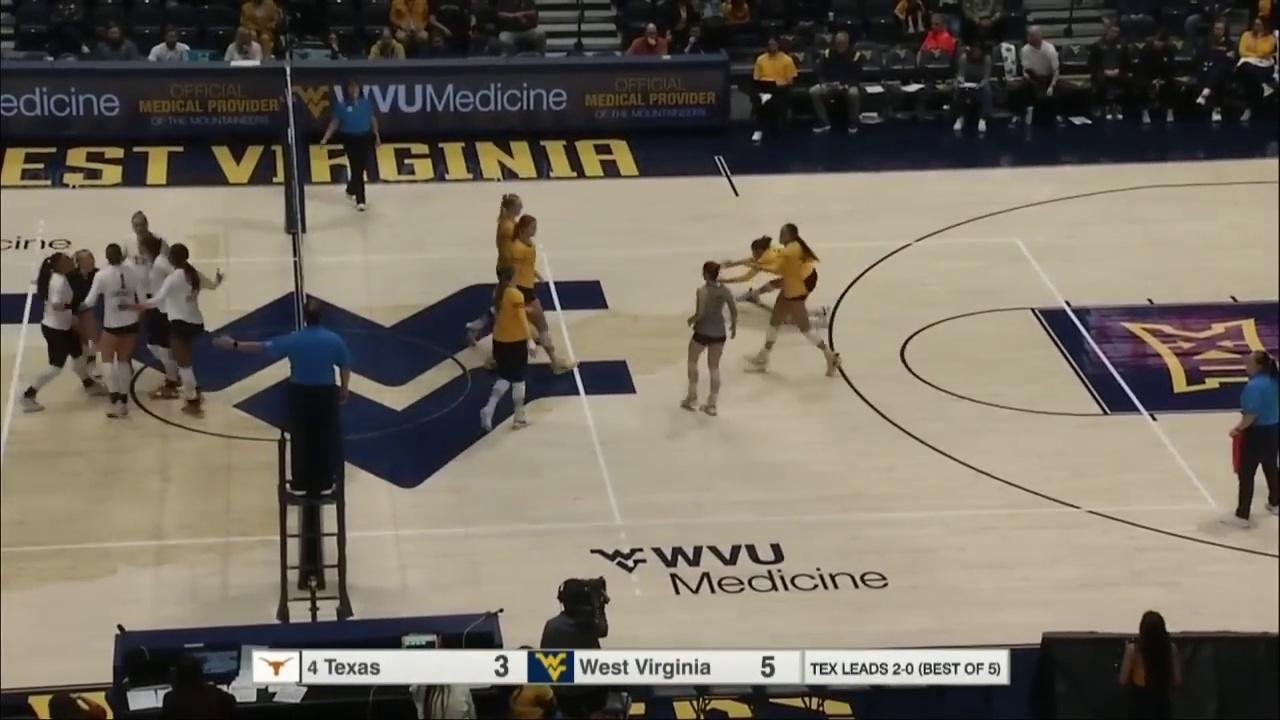player: (743, 223, 842, 375), (19, 252, 110, 410), (463, 193, 553, 348), (493, 212, 569, 375), (120, 215, 179, 388), (159, 246, 218, 417), (476, 266, 533, 434), (678, 265, 739, 418), (725, 239, 836, 323), (137, 239, 194, 402), (93, 247, 142, 419), (57, 250, 109, 389)
refree: (259, 299, 350, 499), (1221, 353, 1280, 529), (325, 79, 382, 210)
